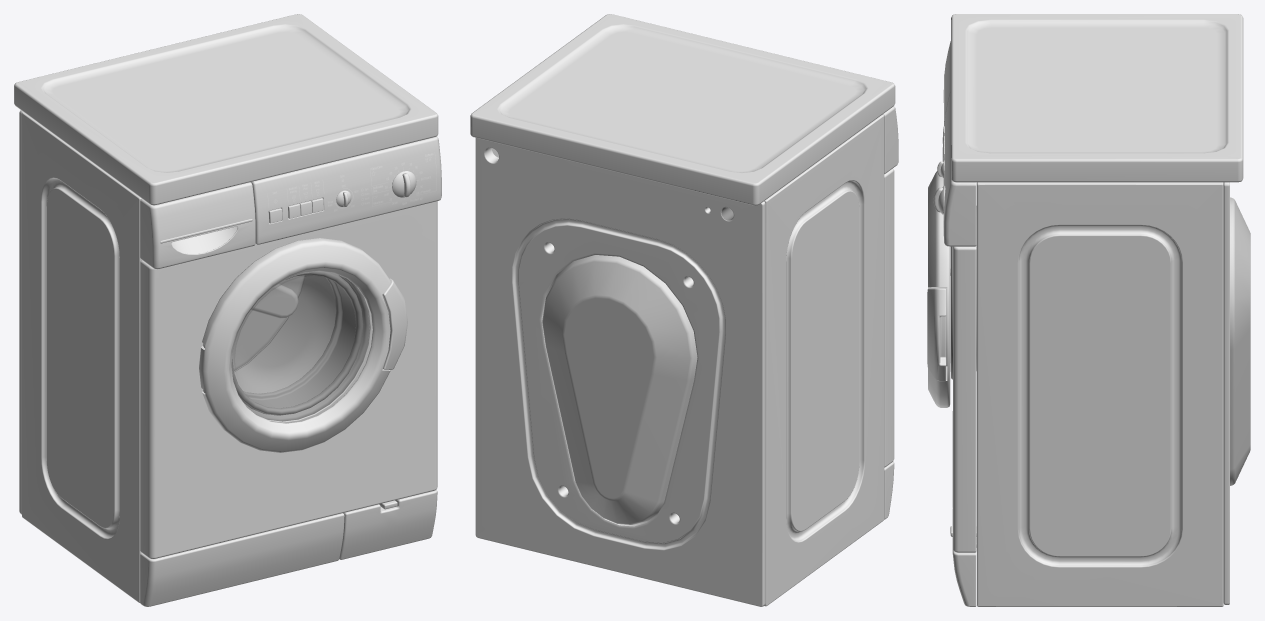
Rendered from Washer10.glb.
3 views of the same model, side by side, from view 1: azimuth 30°, elevation 25°; view 2: azimuth 150°, elevation 25°; view 3: azimuth 270°, elevation 25° (orthographic). The views are drawn at different scales.
Parts seen in each view (by area): view 1: polySurface132, polySurface135, polySurface119, polySurface127, polySurface118, polySurface121, polySurface140, polySurface138, polySurface131, polySurface137, polySurface142, polySurface134 (+5 smaller); view 2: polySurface145, polySurface135, polySurface119, pCylinder1035, polySurface132, polySurface131; view 3: polySurface135, polySurface119, polySurface132, pCylinder1035, polySurface145, polySurface127, polySurface121, polySurface117, polySurface142.
Boxes of the visible parts, x1,y1,x2,y2 form: polySurface132: (140,201,437,558); polySurface135: (22,112,141,602); polySurface119: (14,14,438,205); polySurface127: (199,238,390,452); polySurface118: (232,272,372,422); polySurface121: (250,136,441,244); polySurface140: (140,513,344,606); polySurface138: (231,271,369,421); polySurface131: (140,182,255,268); polySurface137: (234,274,335,393); polySurface142: (339,490,437,559); polySurface134: (232,275,303,370); polySurface145: (475,138,765,606); polySurface135: (492,114,884,606); polySurface119: (470,14,895,205); pCylinder1035: (542,255,697,524); polySurface132: (884,168,894,467); polySurface131: (882,106,898,173); polySurface135: (977,182,1223,606); polySurface119: (951,14,1243,182); polySurface132: (953,182,976,552); pCylinder1035: (1230,197,1250,485); polySurface145: (1223,182,1229,604); polySurface127: (928,171,950,407); polySurface121: (943,92,976,246); polySurface117: (927,288,946,381); polySurface142: (952,508,976,606).
Bounding box in the file's own units: 16.26 × 23.06 × 15.11.
Materials: 8 (1 with a texture image).
